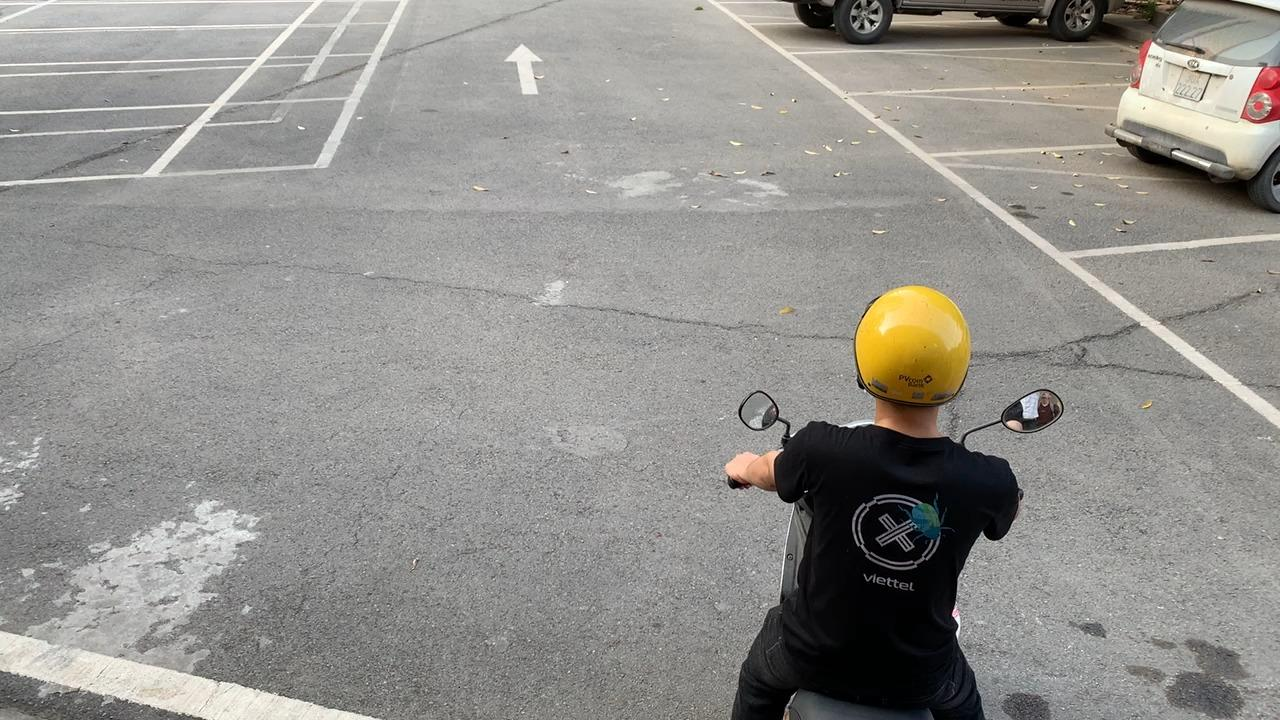helmet: (852, 285, 973, 407)
motorcyclist: (723, 283, 1064, 720)
